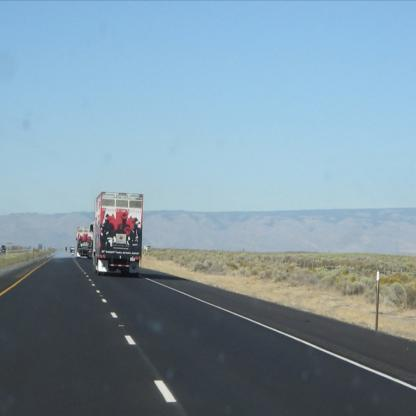Truck: (90, 192, 142, 276), (75, 228, 93, 258), (70, 247, 76, 254)
